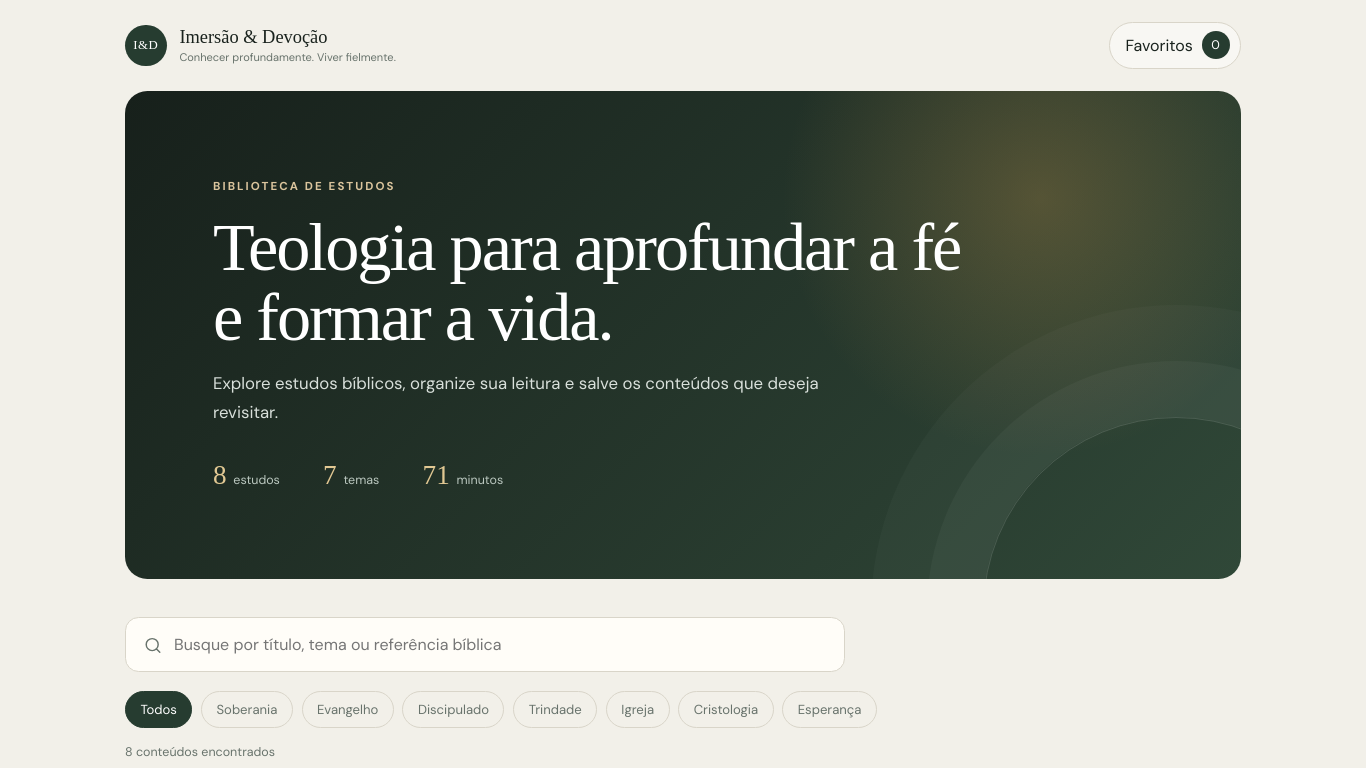
Test: Painel de conteúdos › combina filtro por categoria com a contagem de resultados
This screenshot has width=1366, height=768.
Step 1. Click the button "Soberania" → (247, 710), box [201,691,293,728]
(page scrolled)
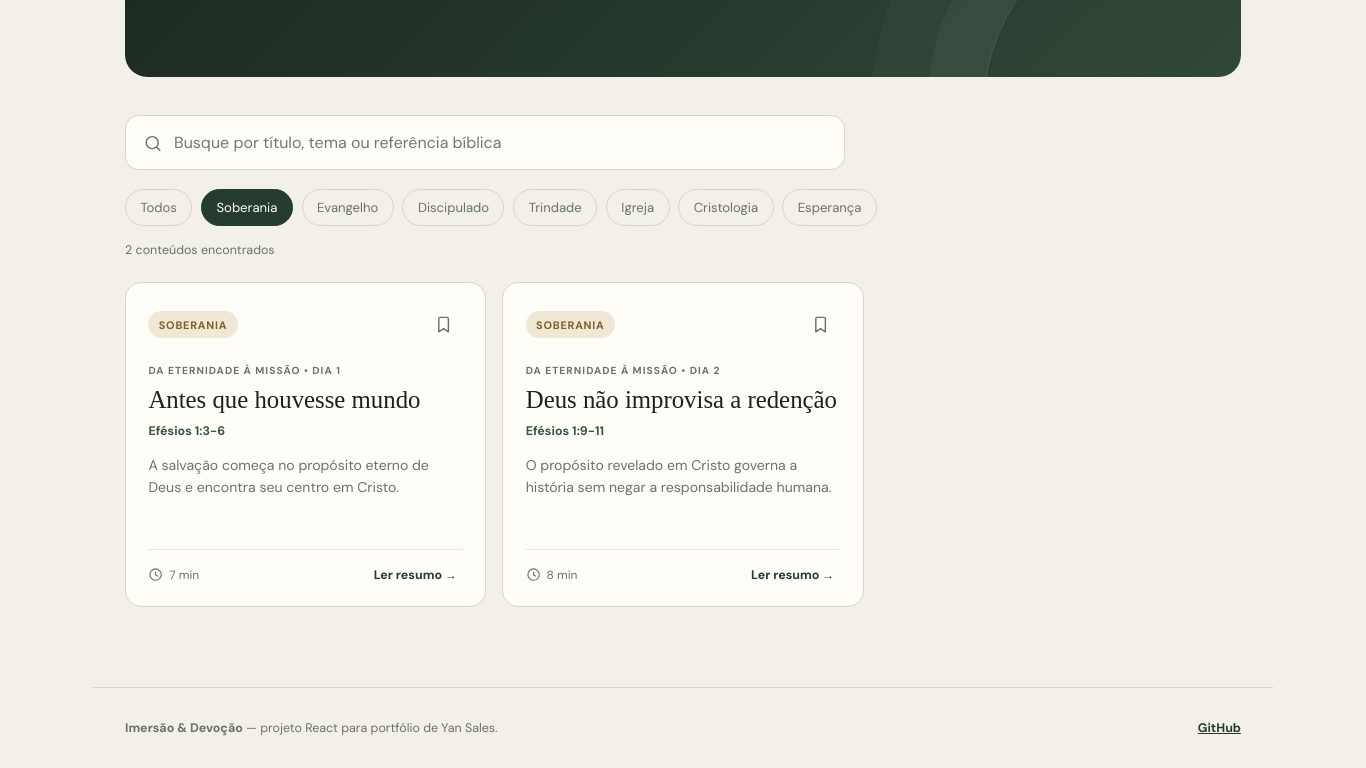
Expected: the heading "Antes que houvesse mundo" is shown, [148,386,463,414]
Expected: the text "2 conteúdos encontrados" is shown, [125,242,275,258]
